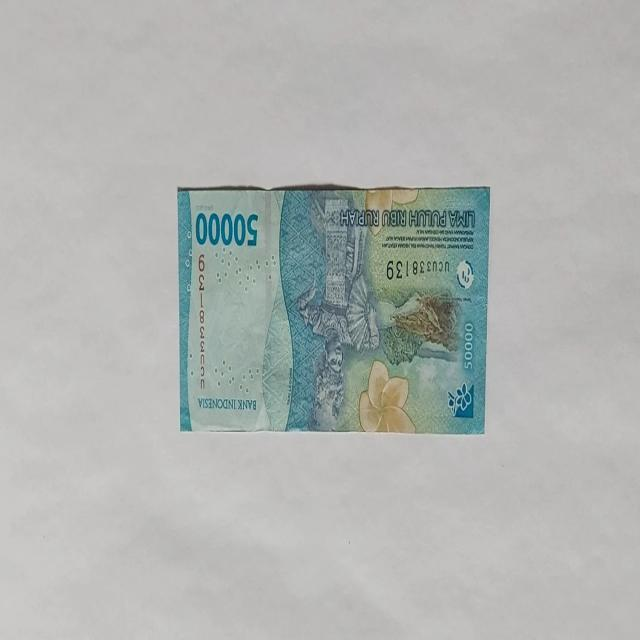lima puluh ribu rupiah: (177, 183, 491, 434), (194, 208, 259, 249)
